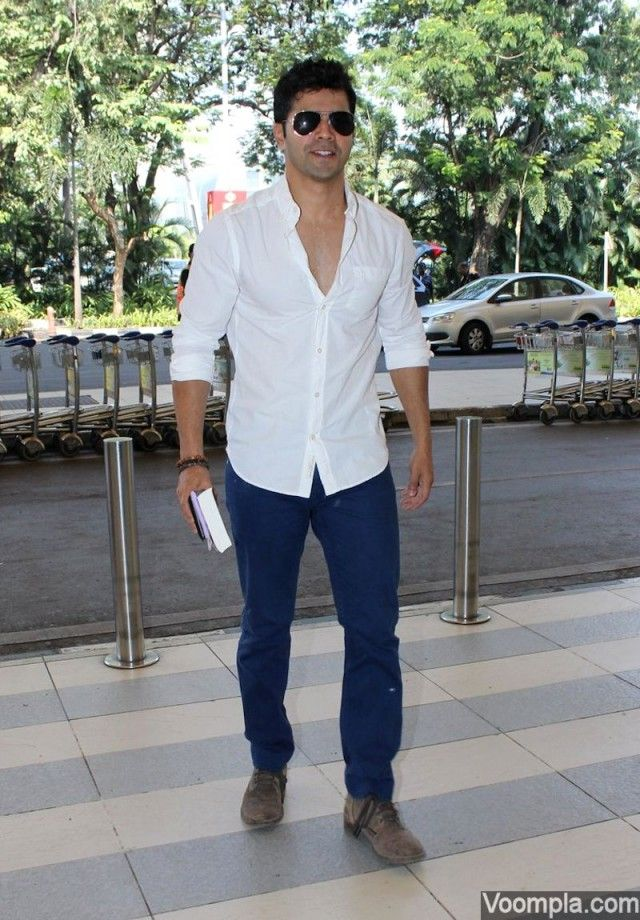jeans: (217, 439, 407, 786)
sunglasses: (271, 111, 356, 142)
